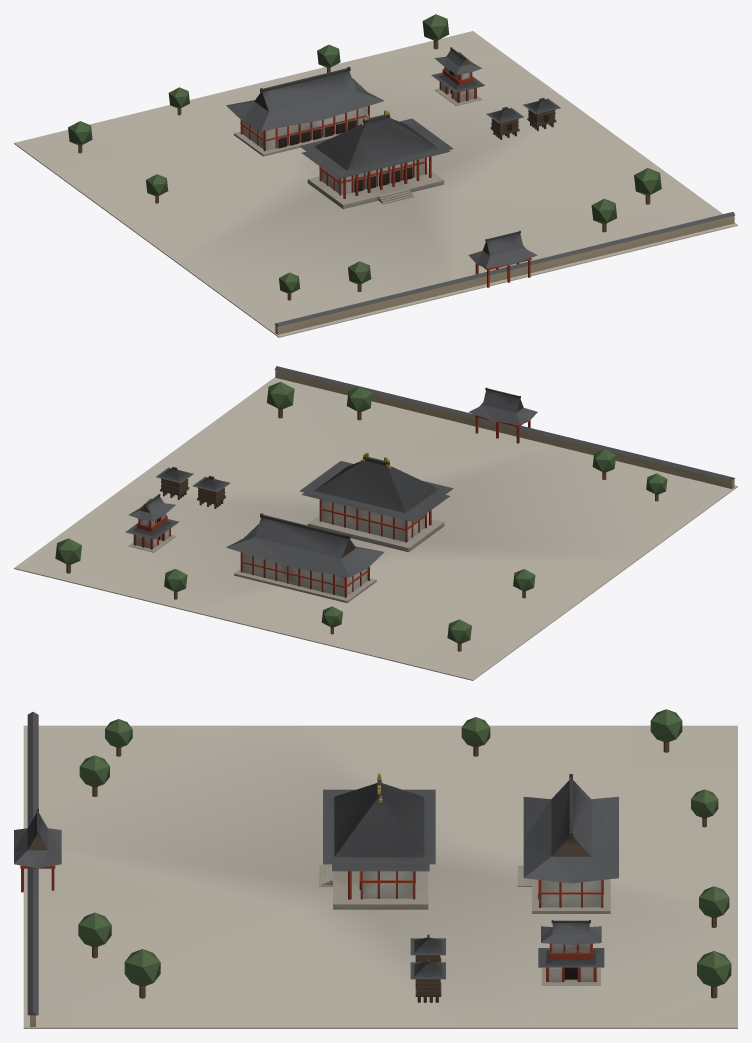
Rendered from toshodaiji.glb.
The picture shows the model from 3 angles, top to bottom: view 1: azimuth 30°, elevation 25°; view 2: azimuth 150°, elevation 25°; view 3: azimuth 270°, elevation 25°; orthographic projection. The views are drawn at different scales.
Visible parts, largest first — view 1: p0_grounds, p2_roofs, p1_halls; view 2: p0_grounds, p2_roofs, p1_halls, kondo_roof; view 3: p0_grounds, p2_roofs, p1_halls, kondo_roof.
Part boxes in pixels (box(x1,y1,x2,y2)): p0_grounds: box(14, 31, 737, 337); p2_roofs: box(68, 14, 661, 300); p1_halls: box(234, 67, 556, 287); p0_grounds: box(14, 366, 737, 680); p2_roofs: box(55, 381, 667, 651); p1_halls: box(128, 387, 537, 603); kondo_roof: box(301, 458, 449, 522); p0_grounds: box(23, 712, 737, 1028); p2_roofs: box(78, 709, 731, 998); p1_halls: box(14, 808, 610, 1002); kondo_roof: box(332, 780, 429, 871).
Bounding box in the file's own units: 150 × 22.64 × 152.
